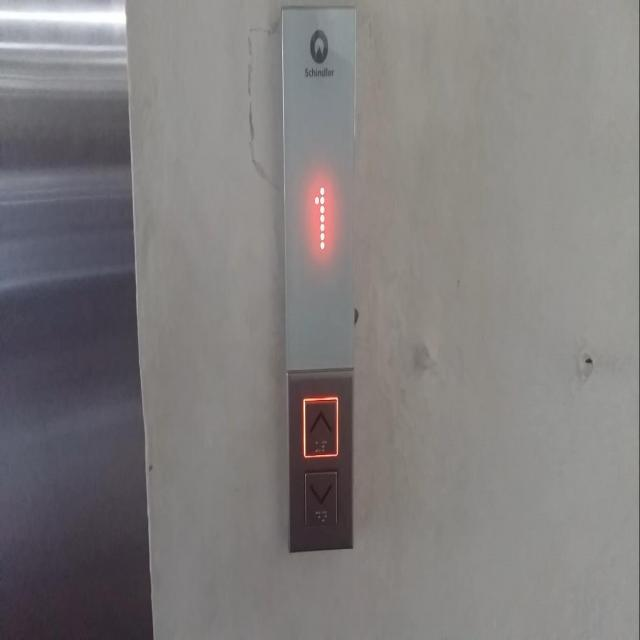down: (302, 466, 339, 532)
led: (278, 4, 356, 373)
up: (301, 392, 339, 460)
